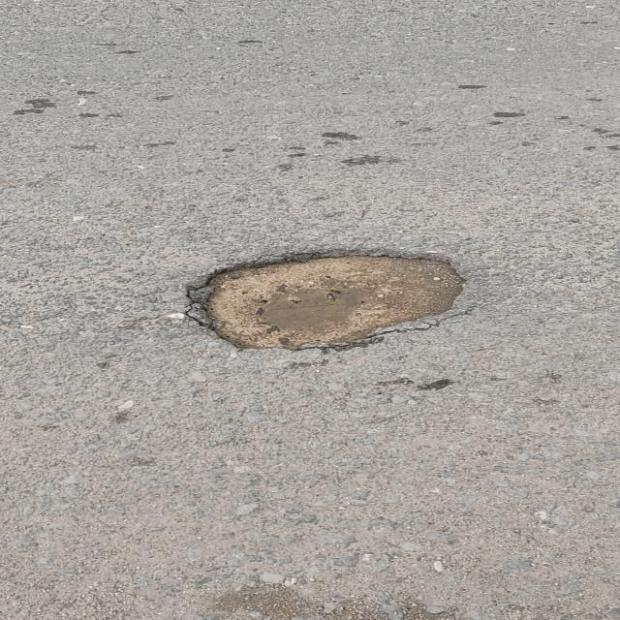lubang: (188, 255, 463, 350)
